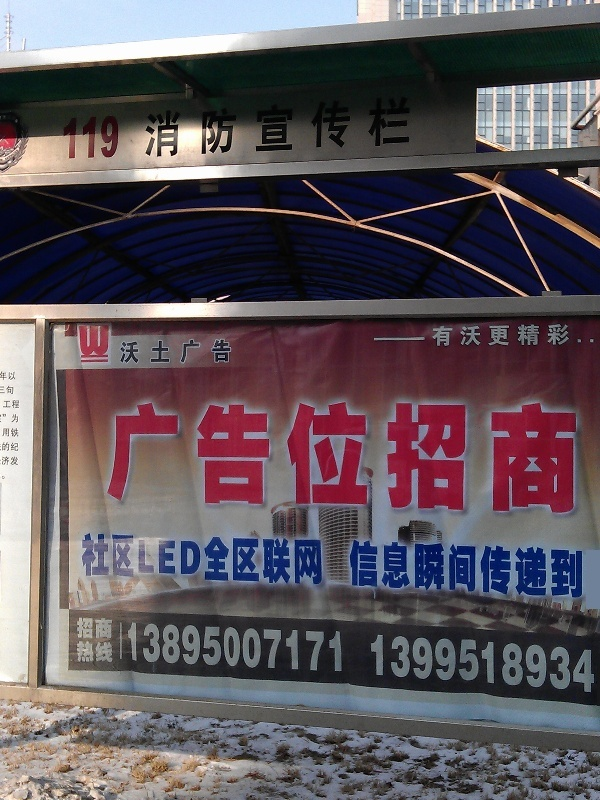text: (113, 398, 128, 513), (129, 398, 144, 513), (145, 398, 160, 513), (161, 398, 176, 513), (177, 398, 192, 513), (193, 398, 208, 513), (209, 398, 224, 513), (225, 398, 240, 513), (241, 398, 256, 513), (257, 398, 272, 513), (273, 398, 288, 513), (289, 398, 304, 513), (305, 398, 320, 513), (321, 398, 336, 513), (337, 398, 352, 513), (353, 398, 368, 513), (369, 398, 384, 513), (385, 398, 400, 513), (401, 398, 416, 513), (417, 398, 432, 513), (433, 398, 448, 513), (449, 398, 464, 513), (465, 398, 480, 513), (481, 398, 496, 513), (497, 398, 512, 513), (513, 398, 528, 513), (529, 398, 544, 513), (545, 398, 560, 513), (561, 398, 576, 513), (65, 96, 80, 162), (81, 96, 96, 162), (97, 96, 112, 162), (113, 96, 128, 162), (129, 96, 144, 162), (145, 96, 160, 162), (161, 96, 176, 162), (177, 96, 192, 162), (193, 96, 208, 162), (209, 96, 224, 162), (225, 96, 240, 162), (241, 96, 256, 162), (257, 96, 272, 162), (273, 96, 288, 162), (289, 96, 304, 162), (305, 96, 320, 162), (321, 96, 336, 162), (337, 96, 352, 162), (353, 96, 368, 162), (369, 96, 384, 162), (385, 96, 400, 162), (385, 634, 400, 694), (401, 634, 416, 694), (417, 634, 432, 694), (433, 634, 448, 694), (449, 634, 464, 694), (465, 634, 480, 694), (481, 634, 496, 694), (497, 634, 512, 694), (513, 634, 528, 694), (529, 634, 544, 694), (545, 634, 560, 694), (561, 634, 576, 694), (577, 634, 592, 694), (353, 539, 368, 598), (369, 539, 384, 598), (385, 539, 400, 598), (401, 539, 416, 598), (417, 539, 432, 598), (433, 539, 448, 598), (449, 539, 464, 598), (465, 539, 480, 598), (481, 539, 496, 598), (497, 539, 512, 598), (513, 539, 528, 598), (529, 539, 544, 598), (545, 539, 560, 598), (561, 539, 576, 598), (129, 620, 144, 675), (145, 620, 160, 675), (161, 620, 176, 675), (177, 620, 192, 675), (193, 620, 208, 675), (209, 620, 224, 675), (225, 620, 240, 675), (241, 620, 256, 675), (257, 620, 272, 675), (273, 620, 288, 675), (289, 620, 304, 675), (305, 620, 320, 675), (321, 620, 336, 675), (401, 96, 413, 162), (81, 533, 96, 585), (97, 533, 112, 585), (113, 533, 128, 585), (129, 533, 144, 585), (145, 533, 160, 585), (161, 533, 176, 585), (177, 533, 192, 585), (193, 533, 208, 585), (209, 533, 224, 585), (225, 533, 240, 585), (241, 533, 256, 585), (257, 533, 272, 585), (273, 533, 288, 585), (289, 533, 304, 585), (305, 533, 320, 585), (371, 634, 384, 694), (107, 398, 112, 513), (577, 398, 581, 513), (81, 325, 96, 355), (337, 620, 345, 675), (577, 539, 584, 598), (129, 339, 144, 364), (145, 339, 160, 364), (161, 339, 176, 364), (177, 339, 192, 364), (193, 339, 208, 364), (209, 339, 224, 364), (433, 323, 448, 348), (449, 323, 464, 348), (465, 323, 480, 348), (481, 323, 496, 348), (497, 323, 512, 348), (513, 323, 528, 348), (529, 323, 544, 348), (545, 323, 560, 348), (561, 323, 576, 348), (577, 323, 592, 348), (81, 617, 96, 641), (97, 617, 112, 641), (97, 325, 109, 355), (81, 640, 96, 663), (97, 640, 112, 663), (321, 533, 325, 585), (120, 339, 128, 364), (593, 634, 596, 694), (225, 339, 232, 364), (1, 413, 16, 423), (2, 456, 16, 466), (1, 372, 16, 381), (1, 386, 16, 395), (3, 428, 16, 438), (2, 443, 16, 452), (593, 323, 597, 348), (76, 617, 80, 641), (4, 401, 16, 409), (1, 474, 16, 480), (77, 640, 80, 663), (351, 539, 352, 598), (11, 414, 16, 424), (113, 617, 115, 641), (17, 414, 20, 424), (17, 428, 20, 438), (79, 325, 80, 355), (17, 443, 20, 452), (431, 323, 432, 348), (17, 401, 20, 409), (113, 640, 114, 663), (17, 456, 19, 466), (17, 372, 18, 381)
